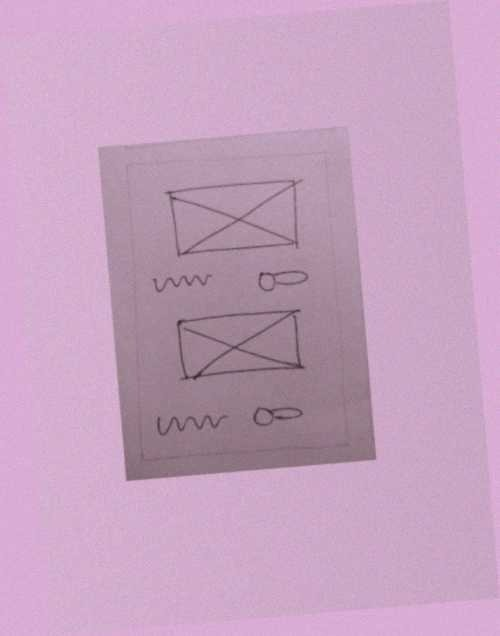image: (161, 172, 312, 267), (169, 303, 310, 386)
switch: (246, 399, 310, 435), (250, 262, 313, 295)
text: (152, 405, 233, 440), (147, 268, 217, 301)
